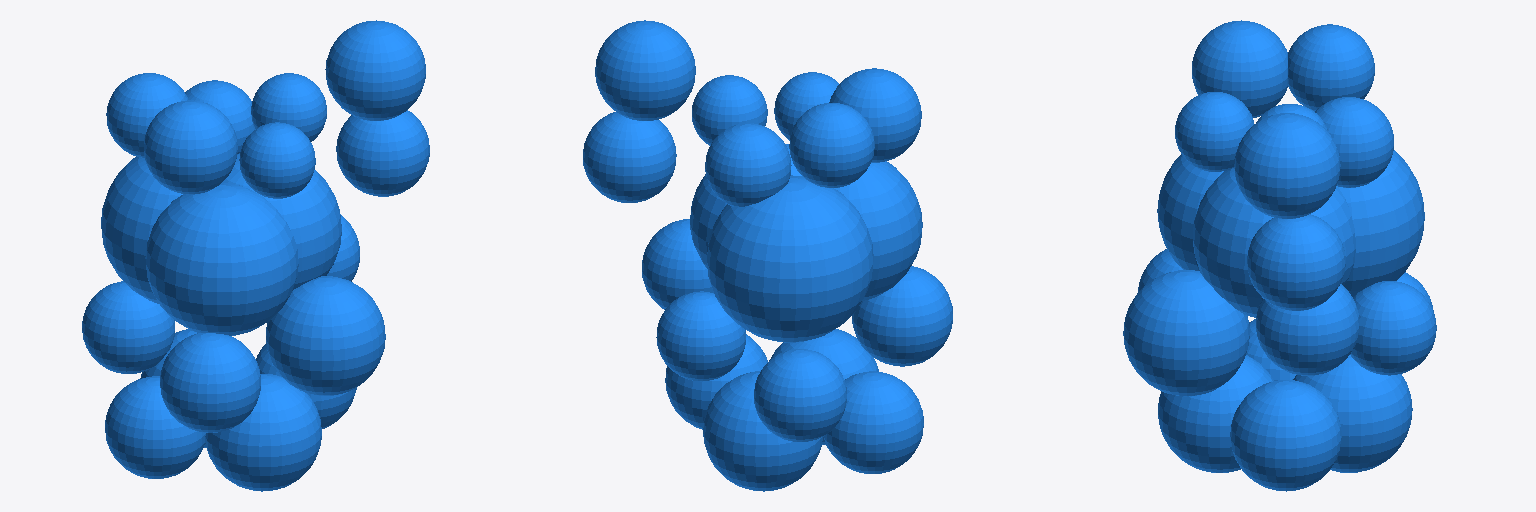
The robot description file, URDF, robot "pitcher":
<?xml version="1.0"?>
<robot name="pitcher">
  <!-- morphit:centroid -0.017482 -0.002185 0.141296 -->
  <material name="default_color">
    <color rgba="0.200000 0.600000 1.000000 1.000000"/>
  </material>
  <link name="base">
    <inertial>
      <mass value="0.001000"/>
      <inertia ixx="0.000010" ixy="0.0" ixz="0.0" iyy="0.000010" iyz="0.0" izz="0.000010"/>
    </inertial>
  </link>
  <link name="sphere_0">
    <visual>
      <origin xyz="0 0 0" rpy="0 0 0"/>
      <geometry><sphere radius="0.058505"/></geometry>
      <material name="default_color"/>
    </visual>
    <collision>
      <origin xyz="0 0 0" rpy="0 0 0"/>
      <geometry><sphere radius="0.058505"/></geometry>
    </collision>
    <inertial>
      <mass value="0.165780"/>
      <inertia ixx="0.000227" ixy="0.0" ixz="0.0" iyy="0.000227" iyz="0.0" izz="0.000227"/>
    </inertial>
  </link>
  <joint name="sphere_0_fixed" type="fixed">
    <parent link="base"/>
    <child link="sphere_0"/>
    <origin xyz="-0.030633 0.032920 0.014930" rpy="0 0 0"/>
  </joint>
  <link name="sphere_1">
    <visual>
      <origin xyz="0 0 0" rpy="0 0 0"/>
      <geometry><sphere radius="0.035296"/></geometry>
      <material name="default_color"/>
    </visual>
    <collision>
      <origin xyz="0 0 0" rpy="0 0 0"/>
      <geometry><sphere radius="0.035296"/></geometry>
    </collision>
    <inertial>
      <mass value="0.036402"/>
      <inertia ixx="0.000018" ixy="0.0" ixz="0.0" iyy="0.000018" iyz="0.0" izz="0.000018"/>
    </inertial>
  </link>
  <joint name="sphere_1_fixed" type="fixed">
    <parent link="base"/>
    <child link="sphere_1"/>
    <origin xyz="0.105019 0.000218 0.115070" rpy="0 0 0"/>
  </joint>
  <link name="sphere_2">
    <visual>
      <origin xyz="0 0 0" rpy="0 0 0"/>
      <geometry><sphere radius="0.037090"/></geometry>
      <material name="default_color"/>
    </visual>
    <collision>
      <origin xyz="0 0 0" rpy="0 0 0"/>
      <geometry><sphere radius="0.037090"/></geometry>
    </collision>
    <inertial>
      <mass value="0.042239"/>
      <inertia ixx="0.000023" ixy="0.0" ixz="0.0" iyy="0.000023" iyz="0.0" izz="0.000023"/>
    </inertial>
  </link>
  <joint name="sphere_2_fixed" type="fixed">
    <parent link="base"/>
    <child link="sphere_2"/>
    <origin xyz="0.046861 -0.000729 -0.109227" rpy="0 0 0"/>
  </joint>
  <link name="sphere_3">
    <visual>
      <origin xyz="0 0 0" rpy="0 0 0"/>
      <geometry><sphere radius="0.029950"/></geometry>
      <material name="default_color"/>
    </visual>
    <collision>
      <origin xyz="0 0 0" rpy="0 0 0"/>
      <geometry><sphere radius="0.029950"/></geometry>
    </collision>
    <inertial>
      <mass value="0.022240"/>
      <inertia ixx="0.000008" ixy="0.0" ixz="0.0" iyy="0.000008" iyz="0.0" izz="0.000008"/>
    </inertial>
  </link>
  <joint name="sphere_3_fixed" type="fixed">
    <parent link="base"/>
    <child link="sphere_3"/>
    <origin xyz="-0.061743 0.028452 0.107977" rpy="0 0 0"/>
  </joint>
  <link name="sphere_4">
    <visual>
      <origin xyz="0 0 0" rpy="0 0 0"/>
      <geometry><sphere radius="0.034615"/></geometry>
      <material name="default_color"/>
    </visual>
    <collision>
      <origin xyz="0 0 0" rpy="0 0 0"/>
      <geometry><sphere radius="0.034615"/></geometry>
    </collision>
    <inertial>
      <mass value="0.034335"/>
      <inertia ixx="0.000016" ixy="0.0" ixz="0.0" iyy="0.000016" iyz="0.0" izz="0.000016"/>
    </inertial>
  </link>
  <joint name="sphere_4_fixed" type="fixed">
    <parent link="base"/>
    <child link="sphere_4"/>
    <origin xyz="0.060435 0.013732 -0.021138" rpy="0 0 0"/>
  </joint>
  <link name="sphere_5">
    <visual>
      <origin xyz="0 0 0" rpy="0 0 0"/>
      <geometry><sphere radius="0.036035"/></geometry>
      <material name="default_color"/>
    </visual>
    <collision>
      <origin xyz="0 0 0" rpy="0 0 0"/>
      <geometry><sphere radius="0.036035"/></geometry>
    </collision>
    <inertial>
      <mass value="0.038738"/>
      <inertia ixx="0.000020" ixy="0.0" ixz="0.0" iyy="0.000020" iyz="0.0" izz="0.000020"/>
    </inertial>
  </link>
  <joint name="sphere_5_fixed" type="fixed">
    <parent link="base"/>
    <child link="sphere_5"/>
    <origin xyz="-0.075207 -0.004886 -0.116153" rpy="0 0 0"/>
  </joint>
  <link name="sphere_6">
    <visual>
      <origin xyz="0 0 0" rpy="0 0 0"/>
      <geometry><sphere radius="0.026686"/></geometry>
      <material name="default_color"/>
    </visual>
    <collision>
      <origin xyz="0 0 0" rpy="0 0 0"/>
      <geometry><sphere radius="0.026686"/></geometry>
    </collision>
    <inertial>
      <mass value="0.015733"/>
      <inertia ixx="0.000004" ixy="0.0" ixz="0.0" iyy="0.000004" iyz="0.0" izz="0.000004"/>
    </inertial>
  </link>
  <joint name="sphere_6_fixed" type="fixed">
    <parent link="base"/>
    <child link="sphere_6"/>
    <origin xyz="0.036053 0.002065 0.099235" rpy="0 0 0"/>
  </joint>
  <link name="sphere_7">
    <visual>
      <origin xyz="0 0 0" rpy="0 0 0"/>
      <geometry><sphere radius="0.053826"/></geometry>
      <material name="default_color"/>
    </visual>
    <collision>
      <origin xyz="0 0 0" rpy="0 0 0"/>
      <geometry><sphere radius="0.053826"/></geometry>
    </collision>
    <inertial>
      <mass value="0.129101"/>
      <inertia ixx="0.000150" ixy="0.0" ixz="0.0" iyy="0.000150" iyz="0.0" izz="0.000150"/>
    </inertial>
  </link>
  <joint name="sphere_7_fixed" type="fixed">
    <parent link="base"/>
    <child link="sphere_7"/>
    <origin xyz="-0.037798 -0.032281 0.015579" rpy="0 0 0"/>
  </joint>
  <link name="sphere_8">
    <visual>
      <origin xyz="0 0 0" rpy="0 0 0"/>
      <geometry><sphere radius="0.055718"/></geometry>
      <material name="default_color"/>
    </visual>
    <collision>
      <origin xyz="0 0 0" rpy="0 0 0"/>
      <geometry><sphere radius="0.055718"/></geometry>
    </collision>
    <inertial>
      <mass value="0.143196"/>
      <inertia ixx="0.000178" ixy="0.0" ixz="0.0" iyy="0.000178" iyz="0.0" izz="0.000178"/>
    </inertial>
  </link>
  <joint name="sphere_8_fixed" type="fixed">
    <parent link="base"/>
    <child link="sphere_8"/>
    <origin xyz="0.009299 -0.007059 0.018614" rpy="0 0 0"/>
  </joint>
  <link name="sphere_9">
    <visual>
      <origin xyz="0 0 0" rpy="0 0 0"/>
      <geometry><sphere radius="0.035540"/></geometry>
      <material name="default_color"/>
    </visual>
    <collision>
      <origin xyz="0 0 0" rpy="0 0 0"/>
      <geometry><sphere radius="0.035540"/></geometry>
    </collision>
    <inertial>
      <mass value="0.037161"/>
      <inertia ixx="0.000019" ixy="0.0" ixz="0.0" iyy="0.000019" iyz="0.0" izz="0.000019"/>
    </inertial>
  </link>
  <joint name="sphere_9_fixed" type="fixed">
    <parent link="base"/>
    <child link="sphere_9"/>
    <origin xyz="-0.065379 -0.063738 -0.059663" rpy="0 0 0"/>
  </joint>
  <link name="sphere_10">
    <visual>
      <origin xyz="0 0 0" rpy="0 0 0"/>
      <geometry><sphere radius="0.026782"/></geometry>
      <material name="default_color"/>
    </visual>
    <collision>
      <origin xyz="0 0 0" rpy="0 0 0"/>
      <geometry><sphere radius="0.026782"/></geometry>
    </collision>
    <inertial>
      <mass value="0.015903"/>
      <inertia ixx="0.000005" ixy="0.0" ixz="0.0" iyy="0.000005" iyz="0.0" izz="0.000005"/>
    </inertial>
  </link>
  <joint name="sphere_10_fixed" type="fixed">
    <parent link="base"/>
    <child link="sphere_10"/>
    <origin xyz="-0.001996 -0.047742 0.090156" rpy="0 0 0"/>
  </joint>
  <link name="sphere_11">
    <visual>
      <origin xyz="0 0 0" rpy="0 0 0"/>
      <geometry><sphere radius="0.042060"/></geometry>
      <material name="default_color"/>
    </visual>
    <collision>
      <origin xyz="0 0 0" rpy="0 0 0"/>
      <geometry><sphere radius="0.042060"/></geometry>
    </collision>
    <inertial>
      <mass value="0.061597"/>
      <inertia ixx="0.000044" ixy="0.0" ixz="0.0" iyy="0.000044" iyz="0.0" izz="0.000044"/>
    </inertial>
  </link>
  <joint name="sphere_11_fixed" type="fixed">
    <parent link="base"/>
    <child link="sphere_11"/>
    <origin xyz="0.025950 -0.066627 -0.044060" rpy="0 0 0"/>
  </joint>
  <link name="sphere_12">
    <visual>
      <origin xyz="0 0 0" rpy="0 0 0"/>
      <geometry><sphere radius="0.042177"/></geometry>
      <material name="default_color"/>
    </visual>
    <collision>
      <origin xyz="0 0 0" rpy="0 0 0"/>
      <geometry><sphere radius="0.042177"/></geometry>
    </collision>
    <inertial>
      <mass value="0.062112"/>
      <inertia ixx="0.000044" ixy="0.0" ixz="0.0" iyy="0.000044" iyz="0.0" izz="0.000044"/>
    </inertial>
  </link>
  <joint name="sphere_12_fixed" type="fixed">
    <parent link="base"/>
    <child link="sphere_12"/>
    <origin xyz="-0.013547 0.041042 -0.118378" rpy="0 0 0"/>
  </joint>
  <link name="sphere_13">
    <visual>
      <origin xyz="0 0 0" rpy="0 0 0"/>
      <geometry><sphere radius="0.041284"/></geometry>
      <material name="default_color"/>
    </visual>
    <collision>
      <origin xyz="0 0 0" rpy="0 0 0"/>
      <geometry><sphere radius="0.041284"/></geometry>
    </collision>
    <inertial>
      <mass value="0.058251"/>
      <inertia ixx="0.000040" ixy="0.0" ixz="0.0" iyy="0.000040" iyz="0.0" izz="0.000040"/>
    </inertial>
  </link>
  <joint name="sphere_13_fixed" type="fixed">
    <parent link="base"/>
    <child link="sphere_13"/>
    <origin xyz="-0.011788 -0.044577 -0.118630" rpy="0 0 0"/>
  </joint>
  <link name="sphere_14">
    <visual>
      <origin xyz="0 0 0" rpy="0 0 0"/>
      <geometry><sphere radius="0.033044"/></geometry>
      <material name="default_color"/>
    </visual>
    <collision>
      <origin xyz="0 0 0" rpy="0 0 0"/>
      <geometry><sphere radius="0.033044"/></geometry>
    </collision>
    <inertial>
      <mass value="0.029870"/>
      <inertia ixx="0.000013" ixy="0.0" ixz="0.0" iyy="0.000013" iyz="0.0" izz="0.000013"/>
    </inertial>
  </link>
  <joint name="sphere_14_fixed" type="fixed">
    <parent link="base"/>
    <child link="sphere_14"/>
    <origin xyz="-0.062124 -0.030365 0.107243" rpy="0 0 0"/>
  </joint>
  <link name="sphere_15">
    <visual>
      <origin xyz="0 0 0" rpy="0 0 0"/>
      <geometry><sphere radius="0.031496"/></geometry>
      <material name="default_color"/>
    </visual>
    <collision>
      <origin xyz="0 0 0" rpy="0 0 0"/>
      <geometry><sphere radius="0.031496"/></geometry>
    </collision>
    <inertial>
      <mass value="0.025866"/>
      <inertia ixx="0.000010" ixy="0.0" ixz="0.0" iyy="0.000010" iyz="0.0" izz="0.000010"/>
    </inertial>
  </link>
  <joint name="sphere_15_fixed" type="fixed">
    <parent link="base"/>
    <child link="sphere_15"/>
    <origin xyz="0.020899 0.067725 -0.042662" rpy="0 0 0"/>
  </joint>
  <link name="sphere_16">
    <visual>
      <origin xyz="0 0 0" rpy="0 0 0"/>
      <geometry><sphere radius="0.030280"/></geometry>
      <material name="default_color"/>
    </visual>
    <collision>
      <origin xyz="0 0 0" rpy="0 0 0"/>
      <geometry><sphere radius="0.030280"/></geometry>
    </collision>
    <inertial>
      <mass value="0.022983"/>
      <inertia ixx="0.000008" ixy="0.0" ixz="0.0" iyy="0.000008" iyz="0.0" izz="0.000008"/>
    </inertial>
  </link>
  <joint name="sphere_16_fixed" type="fixed">
    <parent link="base"/>
    <child link="sphere_16"/>
    <origin xyz="-0.001352 0.040854 0.082761" rpy="0 0 0"/>
  </joint>
  <link name="sphere_17">
    <visual>
      <origin xyz="0 0 0" rpy="0 0 0"/>
      <geometry><sphere radius="0.032888"/></geometry>
      <material name="default_color"/>
    </visual>
    <collision>
      <origin xyz="0 0 0" rpy="0 0 0"/>
      <geometry><sphere radius="0.032888"/></geometry>
    </collision>
    <inertial>
      <mass value="0.029448"/>
      <inertia ixx="0.000013" ixy="0.0" ixz="0.0" iyy="0.000013" iyz="0.0" izz="0.000013"/>
    </inertial>
  </link>
  <joint name="sphere_17_fixed" type="fixed">
    <parent link="base"/>
    <child link="sphere_17"/>
    <origin xyz="0.114349 0.006191 0.049521" rpy="0 0 0"/>
  </joint>
  <link name="sphere_18">
    <visual>
      <origin xyz="0 0 0" rpy="0 0 0"/>
      <geometry><sphere radius="0.032737"/></geometry>
      <material name="default_color"/>
    </visual>
    <collision>
      <origin xyz="0 0 0" rpy="0 0 0"/>
      <geometry><sphere radius="0.032737"/></geometry>
    </collision>
    <inertial>
      <mass value="0.029046"/>
      <inertia ixx="0.000012" ixy="0.0" ixz="0.0" iyy="0.000012" iyz="0.0" izz="0.000012"/>
    </inertial>
  </link>
  <joint name="sphere_18_fixed" type="fixed">
    <parent link="base"/>
    <child link="sphere_18"/>
    <origin xyz="-0.057299 0.064804 -0.071176" rpy="0 0 0"/>
  </joint>
</robot>

--- Facts derived from the render (not from the file) ---
3 views of the same robot in one strip: view 1: azimuth 30°, elevation 25°; view 2: azimuth 150°, elevation 25°; view 3: azimuth 270°, elevation 25° (orthographic).
Model pitcher with 20 links and 19 joints (19 fixed), rooted at base, posed every joint at zero.
Visible links, largest first — view 1: sphere_7, sphere_11, sphere_13, sphere_9, sphere_1, sphere_14, sphere_5, sphere_18, sphere_17, sphere_0, sphere_8, sphere_10 (+5 smaller); view 2: sphere_0, sphere_1, sphere_12, sphere_5, sphere_9, sphere_18, sphere_17, sphere_7, sphere_15, sphere_3, sphere_16, sphere_14 (+6 smaller); view 3: sphere_11, sphere_2, sphere_1, sphere_8, sphere_17, sphere_0, sphere_12, sphere_14, sphere_4, sphere_13, sphere_15, sphere_3 (+6 smaller).
Link boxes in pixels (x1,y1,x2,y2): sphere_7: (145, 183, 298, 335); sphere_11: (266, 276, 385, 395); sphere_13: (205, 374, 321, 491); sphere_9: (160, 333, 260, 432); sphere_1: (325, 20, 425, 120); sphere_14: (144, 100, 237, 194); sphere_5: (105, 376, 205, 478); sphere_18: (82, 281, 174, 373); sphere_17: (336, 110, 429, 196); sphere_0: (101, 156, 182, 303); sphere_8: (222, 153, 341, 290); sphere_10: (239, 122, 315, 198); sphere_0: (707, 175, 873, 342); sphere_1: (595, 20, 695, 120); sphere_12: (703, 371, 822, 491); sphere_5: (823, 371, 923, 473); sphere_9: (852, 266, 952, 366); sphere_18: (754, 349, 846, 441); sphere_17: (583, 112, 676, 202); sphere_7: (834, 161, 922, 300); sphere_15: (656, 291, 745, 381); sphere_3: (789, 103, 874, 187); sphere_16: (705, 123, 791, 206); sphere_14: (829, 68, 921, 162); sphere_11: (1123, 270, 1249, 396); sphere_2: (1230, 380, 1341, 491); sphere_1: (1234, 113, 1340, 218); sphere_8: (1193, 168, 1355, 317); sphere_17: (1247, 214, 1345, 310); sphere_0: (1339, 150, 1424, 296); sphere_12: (1293, 355, 1412, 472); sphere_14: (1192, 20, 1287, 117); sphere_4: (1256, 284, 1359, 375); sphere_13: (1158, 355, 1273, 472); sphere_15: (1350, 281, 1436, 375); sphere_3: (1288, 24, 1374, 111).
Bounding box of the posed robot: 0.2585 × 0.2079 × 0.3109 m (x, y, z).
Geometry: primitives only (box / cylinder / sphere), no mesh files.
